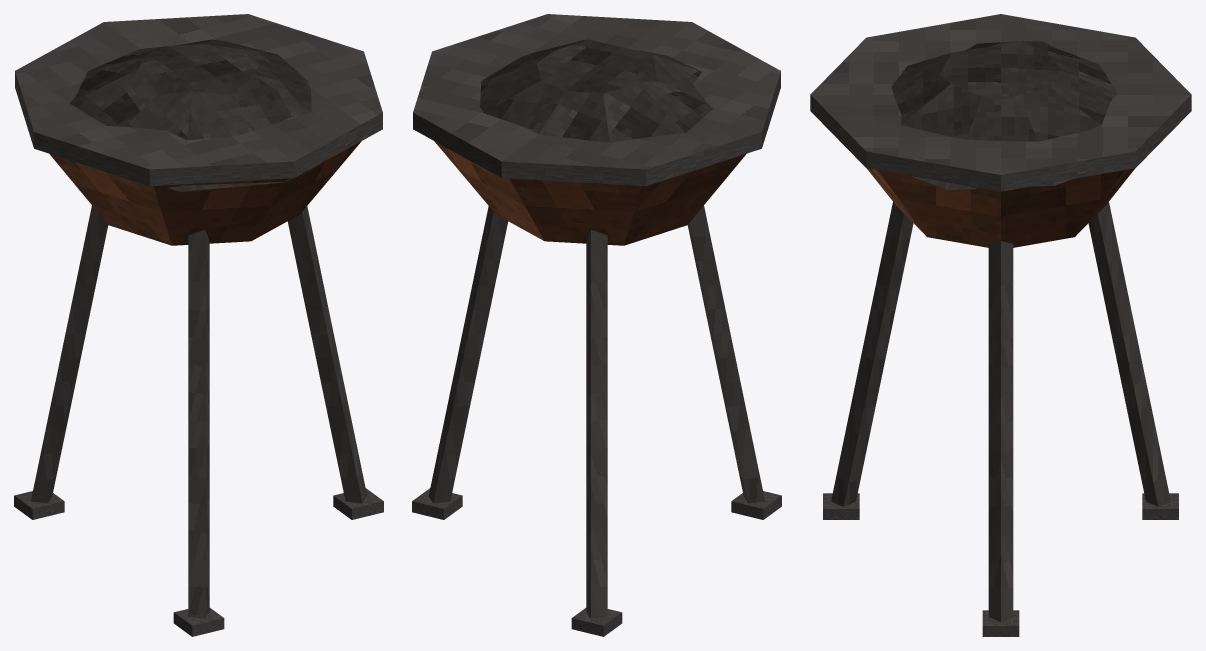
Rendered from BrazierOut.glb.
3 views of the same model, side by side, from view 1: azimuth 30°, elevation 25°; view 2: azimuth 150°, elevation 25°; view 3: azimuth 270°, elevation 25° (orthographic).
Visible parts, largest first — view 1: BrazierOut; view 2: BrazierOut; view 3: BrazierOut.
Boxes of the visible parts, <box> form: BrazierOut: <box>14,14,383,636</box>; BrazierOut: <box>412,14,781,636</box>; BrazierOut: <box>810,14,1191,636</box>.
Size of the model in its own units: 0.864 by 1.18 by 0.837.
1 material, 1 textured.
